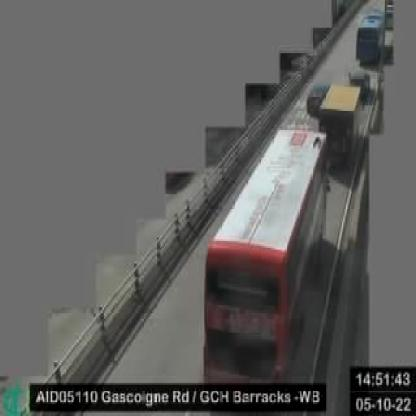Bus: (204, 132, 329, 383)
Car: (307, 82, 329, 112), (350, 71, 370, 99)
Truck: (320, 83, 361, 168), (356, 10, 384, 59)
